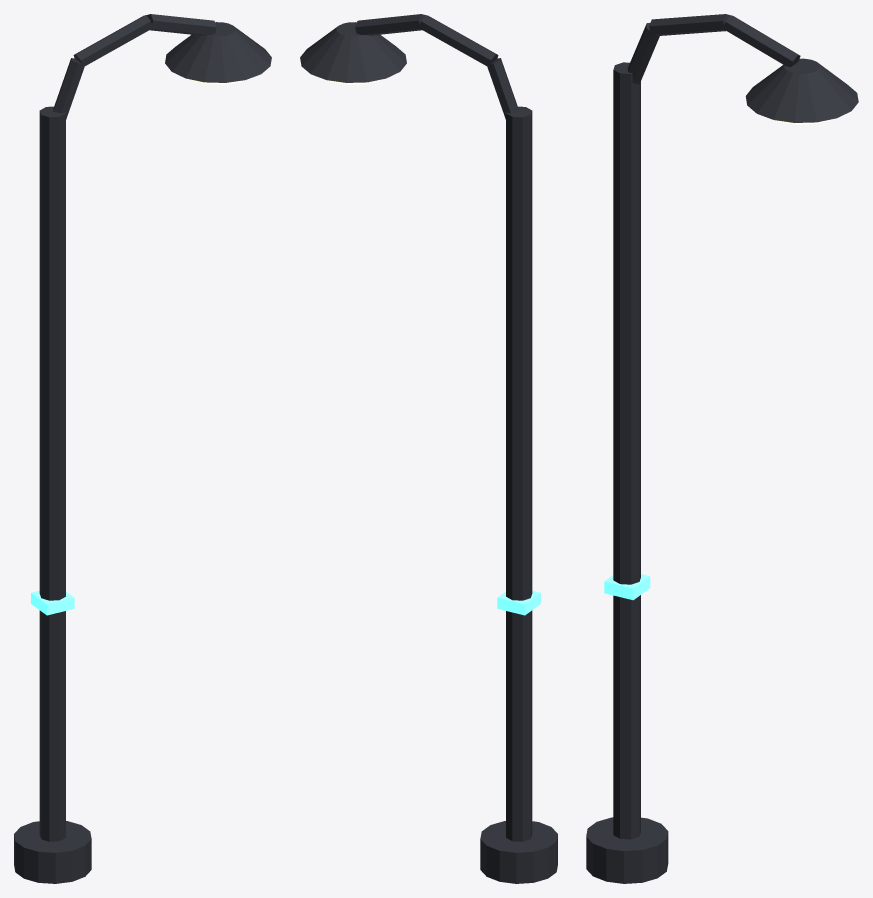
File: roof_lamp.glb
The picture shows the model from 3 angles, left to right: view 1: azimuth 30°, elevation 25°; view 2: azimuth 150°, elevation 25°; view 3: azimuth 330°, elevation 25°; orthographic projection. The views are drawn at different scales.
Parts seen in each view (by area): view 1: Lamp foot, Post band; view 2: Lamp foot, Post band; view 3: Lamp foot, Post band.
Part boxes in pixels (x1,y1,x2,y2): Lamp foot: (14,14,271,883); Post band: (31,590,74,615); Lamp foot: (300,14,557,883); Post band: (497,590,540,615); Lamp foot: (586,14,858,883); Post band: (604,574,650,600).
Bounding box in the file's own units: 1.16 × 3.73 × 0.4401.
